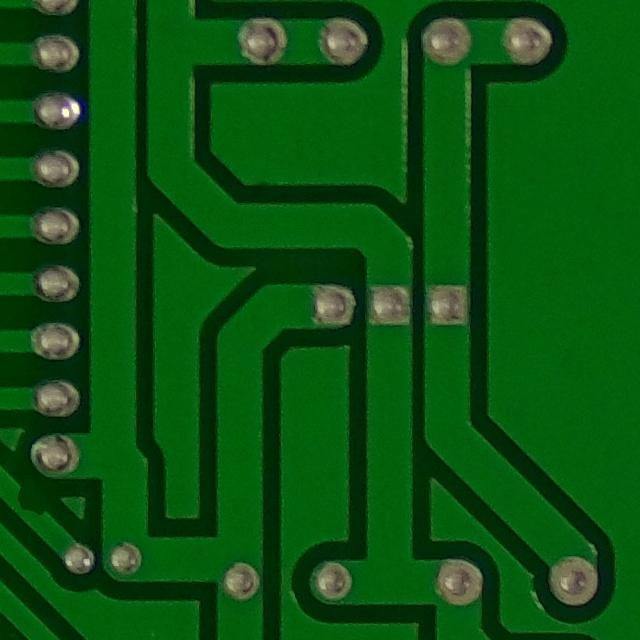mouse_bite: (4, 473, 55, 528)
